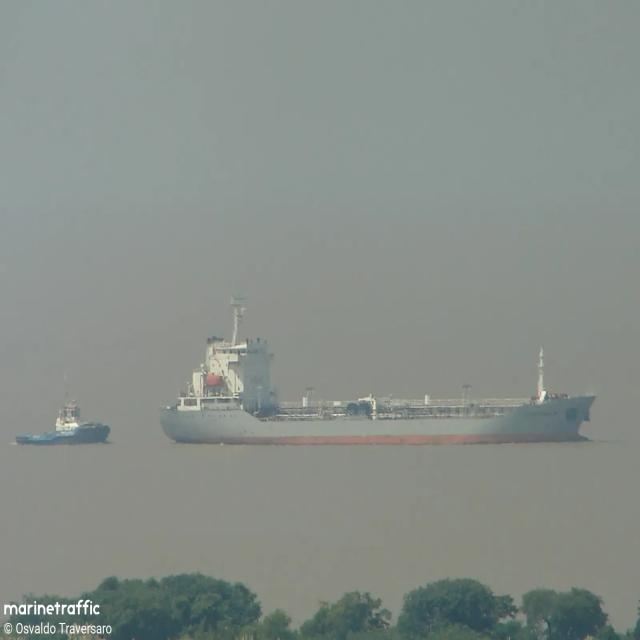Tanker: (160, 299, 595, 445)
Tug: (16, 401, 110, 444)
